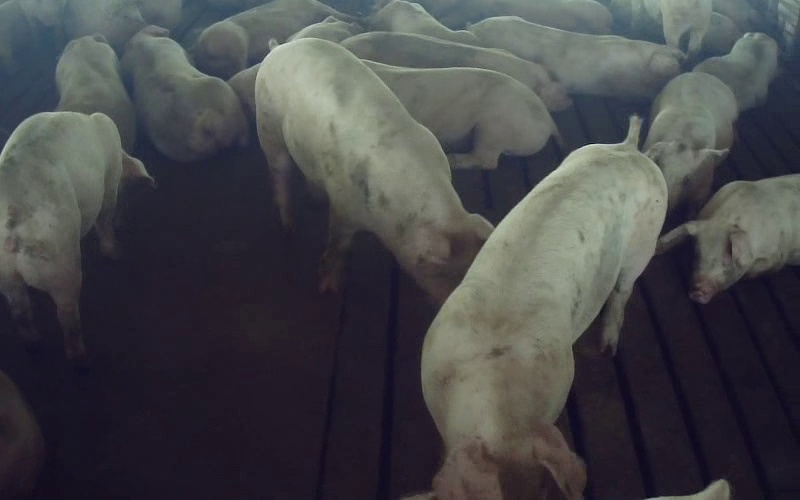pig: (422, 117, 666, 499), (256, 38, 492, 299), (0, 112, 148, 358), (363, 60, 558, 168), (657, 174, 799, 302), (341, 31, 570, 110), (468, 16, 683, 96), (121, 26, 247, 161), (643, 72, 737, 208), (56, 35, 135, 152), (693, 33, 777, 110)
